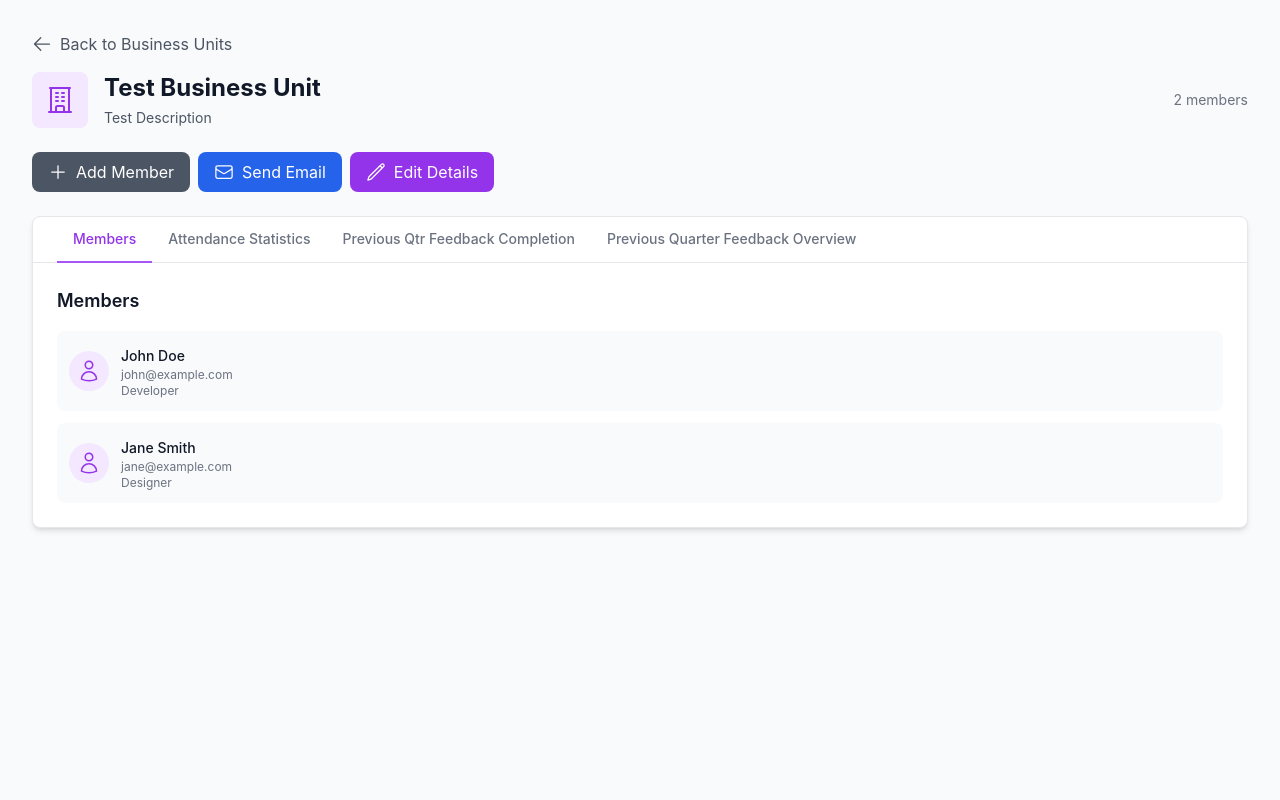
Test: BusinessUnitDetail › should handle edit cancel
Expected: the heading "Test Business Unit" is shown, [104,72,321,104]
Click the button "Edit Details". click: (422, 172)
box: [350,152,494,192]
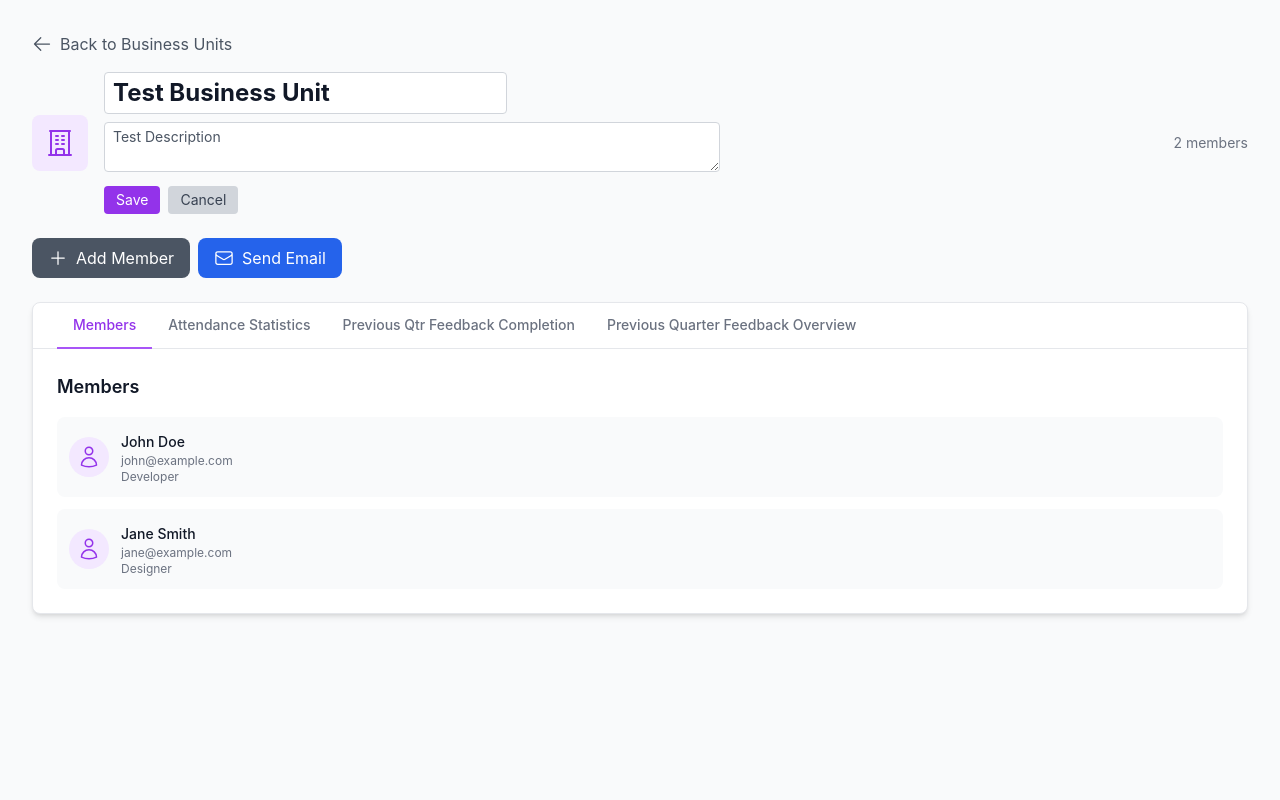
Result: the field showing "Test Business Unit" is shown at [104,72,507,114]
Click the button "Cancel". click: (203, 200)
box: [168,186,238,214]
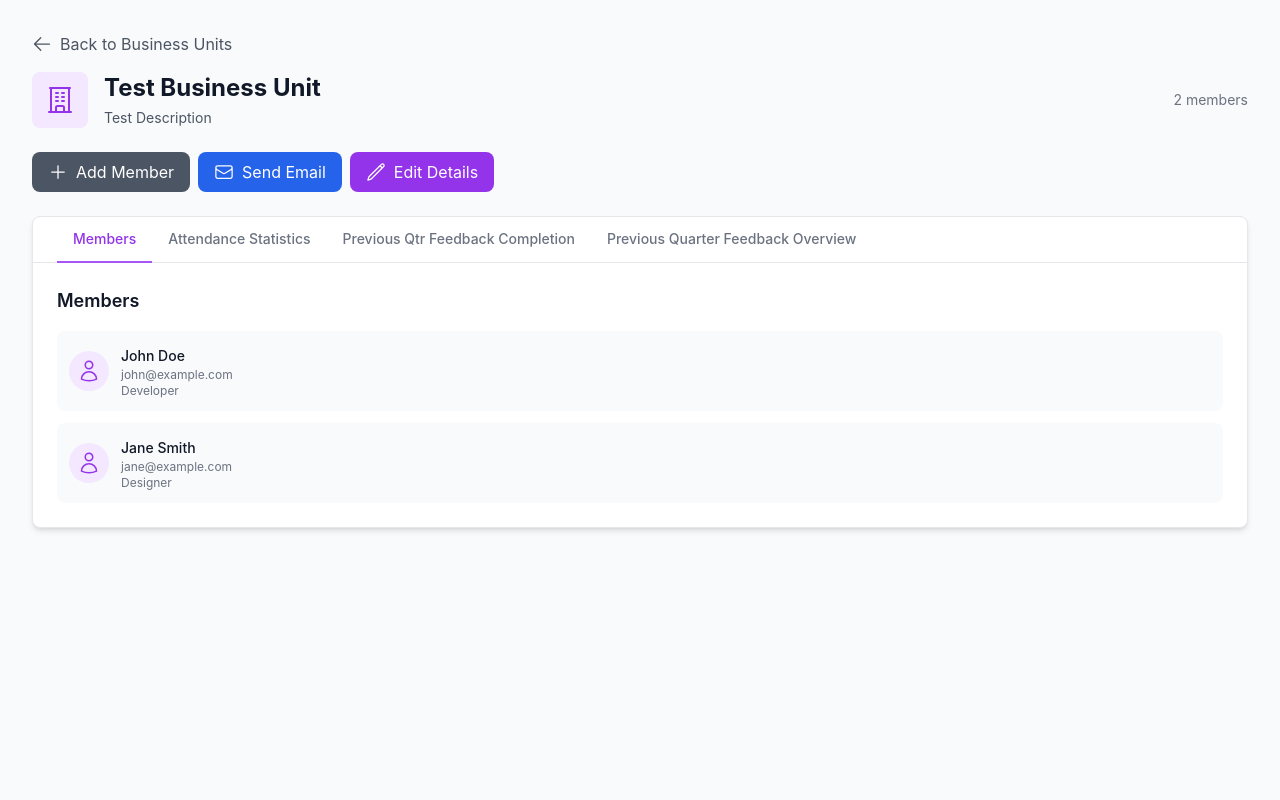
Result: the heading "Test Business Unit" is shown at [104,72,321,104]
